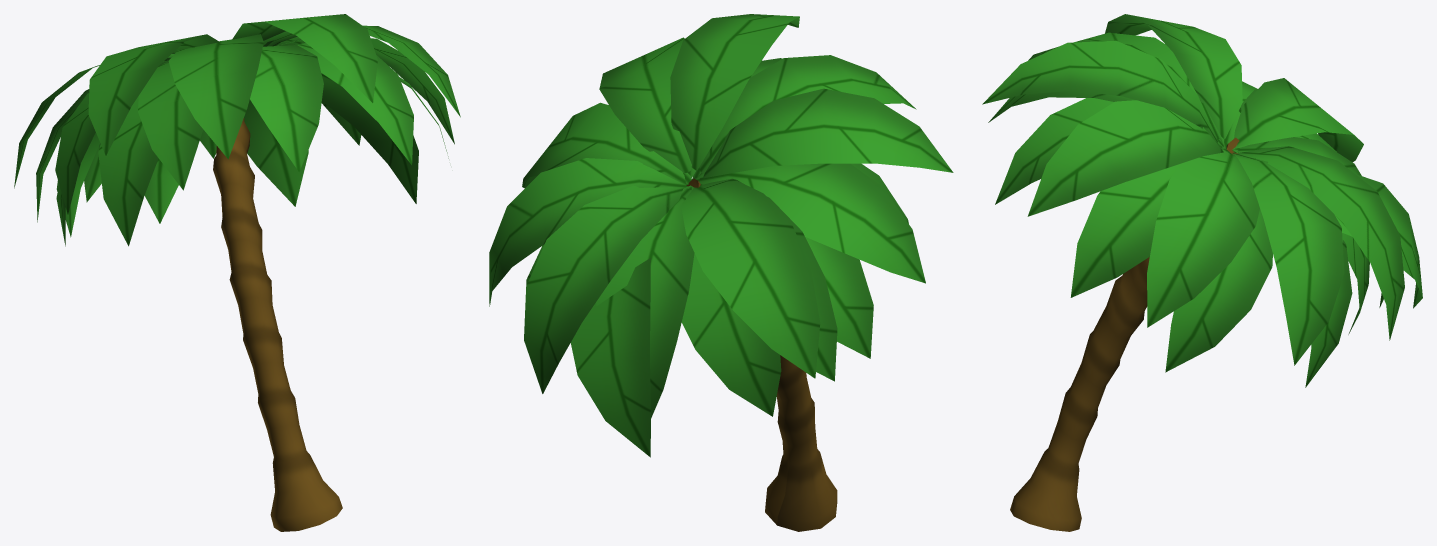
The picture shows the model from 3 angles, left to right: view 1: azimuth 30°, elevation 25°; view 2: azimuth 150°, elevation 25°; view 3: azimuth 270°, elevation 25°; orthographic projection. The views are drawn at different scales.
Parts seen in each view (by area): view 1: Palm Tree 2; view 2: Palm Tree 2; view 3: Palm Tree 2.
Part boxes in pixels (left/top/right/bottom): Palm Tree 2: left=14, top=14, right=460, bottom=531; Palm Tree 2: left=489, top=14, right=953, bottom=531; Palm Tree 2: left=982, top=14, right=1422, bottom=531.
Bounding box in the file's own units: 107 × 131 × 108.
